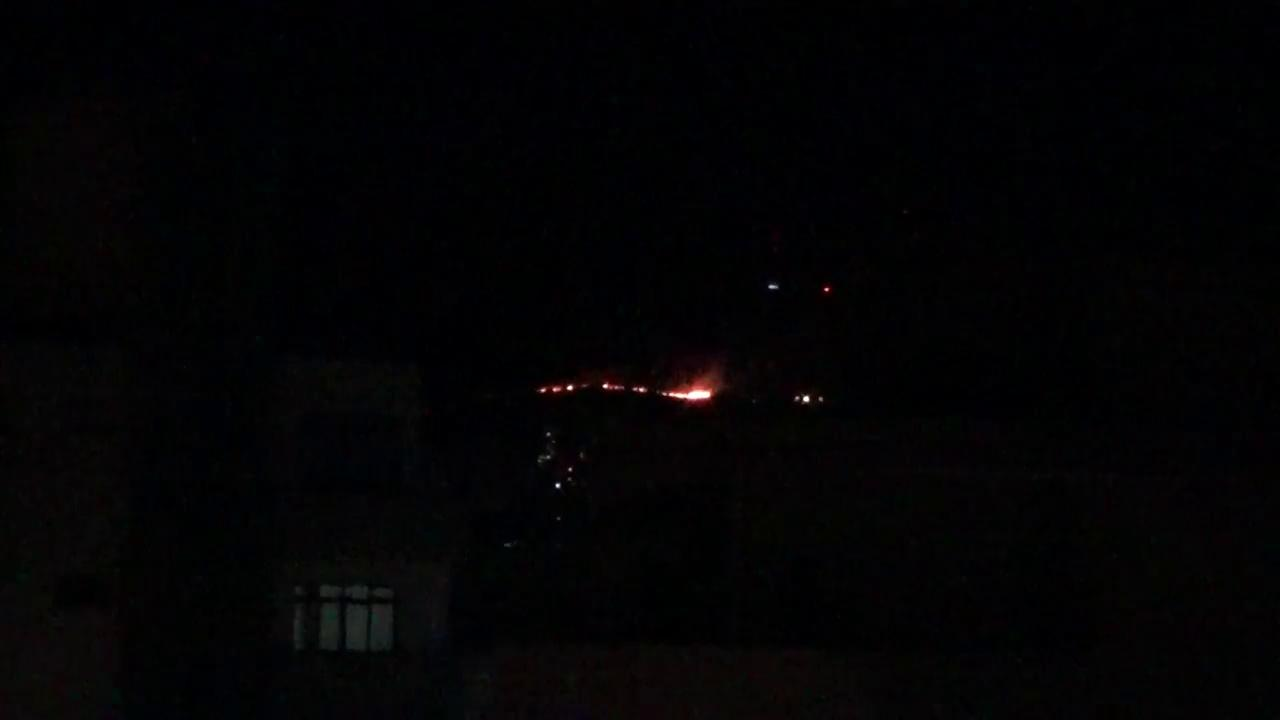fire: (665, 386, 710, 402), (539, 381, 574, 393), (602, 382, 622, 391), (629, 385, 645, 394)
